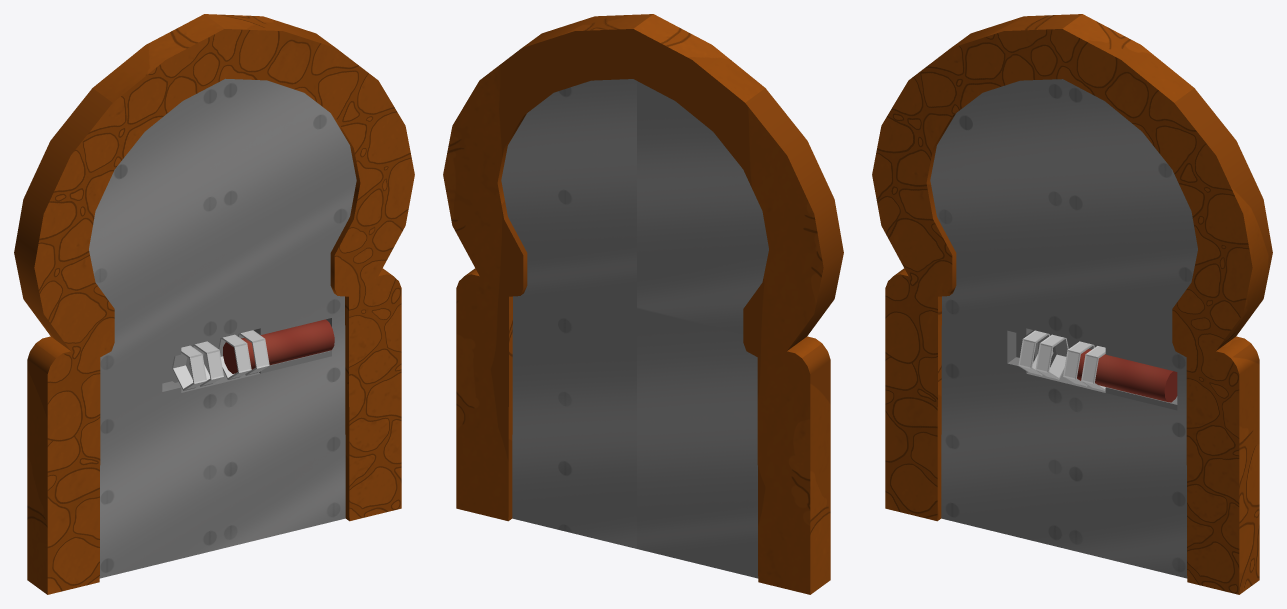
File: door .fbx
The picture shows the model from 3 angles, left to right: view 1: azimuth 30°, elevation 25°; view 2: azimuth 150°, elevation 25°; view 3: azimuth 330°, elevation 25°; orthographic projection.
Visible parts, largest first — view 1: polySurface47, polySurface45, polySurface46, polySurface49, polySurface85, polySurface83, polySurface84, polySurface42; view 2: polySurface47, polySurface46, polySurface45; view 3: polySurface47, polySurface45, polySurface46, polySurface49, polySurface84, polySurface85, polySurface83, polySurface42.
Part boxes in pixels (x1,y1,x2,y2): polySurface47: (14,14,414,594); polySurface45: (89,81,220,578); polySurface46: (209,78,356,548); polySurface49: (223,319,334,373); polySurface85: (172,345,206,390); polySurface83: (218,334,251,379); polySurface84: (189,341,223,386); polySurface42: (238,330,269,375); polySurface47: (443,14,843,594); polySurface46: (501,79,636,548); polySurface45: (637,81,768,578); polySurface47: (872,14,1272,594); polySurface45: (930,79,1077,548); polySurface46: (1066,81,1197,578); polySurface49: (1077,349,1177,402); polySurface84: (1035,334,1068,379); polySurface85: (1018,330,1053,375); polySurface83: (1063,341,1094,386); polySurface42: (1081,346,1105,391).
Bounding box in the file's own units: 200 × 263 × 24.71.
